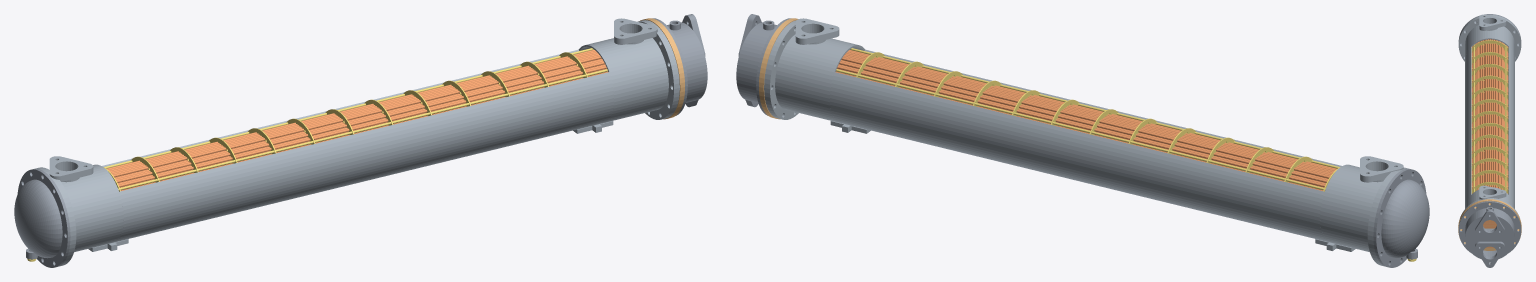
File: AM18SFD0AA_Cutaway_Assembly.glb
3 renders of one model, left to right at view 1: azimuth 30°, elevation 25°; view 2: azimuth 150°, elevation 25°; view 3: azimuth 270°, elevation 25°, orthographic. The views are drawn at different scales.
Parts seen in each view (by area): view 1: 1_Shell_Cutaway, 10_Copper_Tubes_354, 9_Baffles_Serre, 3_Header_Return_P1067, 2_Header_2Pass_P1066, 4_Tubesheet_Stationary; view 2: 1_Shell_Cutaway, 10_Copper_Tubes_354, 9_Baffles_Serre, 3_Header_Return_P1067, 2_Header_2Pass_P1066, 4_Tubesheet_Stationary; view 3: 1_Shell_Cutaway, 10_Copper_Tubes_354, 2_Header_2Pass_P1066, 9_Baffles_Serre, 4_Tubesheet_Stationary, 3_Header_Return_P1067.
Boxes of the visible parts, x1=… form: 1_Shell_Cutaway: x1=34, y1=18, x2=679, y2=266; 10_Copper_Tubes_354: x1=107, y1=50, x2=608, y2=190; 9_Baffles_Serre: x1=103, y1=48, x2=607, y2=191; 3_Header_Return_P1067: x1=14, y1=168, x2=70, y2=267; 2_Header_2Pass_P1066: x1=652, y1=14, x2=707, y2=115; 4_Tubesheet_Stationary: x1=640, y1=18, x2=684, y2=119; 1_Shell_Cutaway: x1=764, y1=18, x2=1409, y2=266; 10_Copper_Tubes_354: x1=835, y1=50, x2=1336, y2=190; 9_Baffles_Serre: x1=836, y1=48, x2=1340, y2=191; 3_Header_Return_P1067: x1=1373, y1=168, x2=1429, y2=267; 2_Header_2Pass_P1066: x1=736, y1=14, x2=791, y2=115; 4_Tubesheet_Stationary: x1=759, y1=18, x2=798, y2=119; 1_Shell_Cutaway: x1=1458, y1=14, x2=1521, y2=242; 10_Copper_Tubes_354: x1=1471, y1=39, x2=1508, y2=247; 2_Header_2Pass_P1066: x1=1458, y1=201, x2=1521, y2=267; 9_Baffles_Serre: x1=1471, y1=40, x2=1508, y2=193; 4_Tubesheet_Stationary: x1=1458, y1=199, x2=1521, y2=250; 3_Header_Return_P1067: x1=1459, y1=14, x2=1520, y2=57.
Bounding box in the file's own units: 2.19 × 0.2895 × 0.289.
